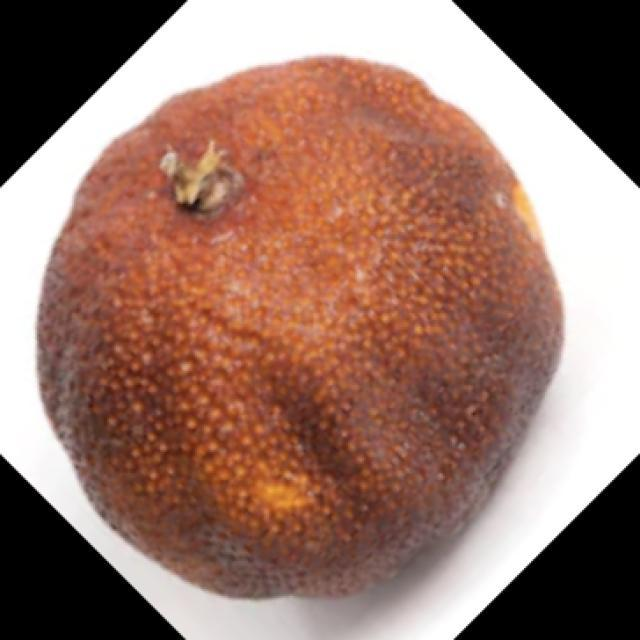sangat-busuk: (38, 58, 562, 597)
